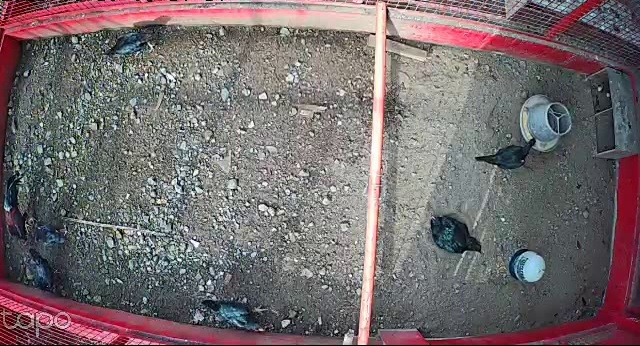Chicken: (202, 293, 267, 335), (472, 134, 540, 169), (429, 213, 483, 254), (102, 26, 159, 61), (25, 248, 65, 295), (23, 215, 76, 249)
Rooster: (2, 171, 34, 245)
